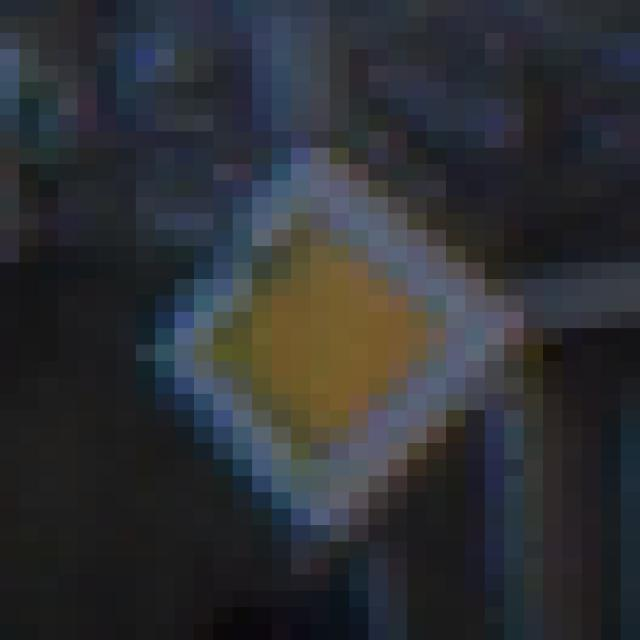Main Road: (98, 99, 544, 559)
